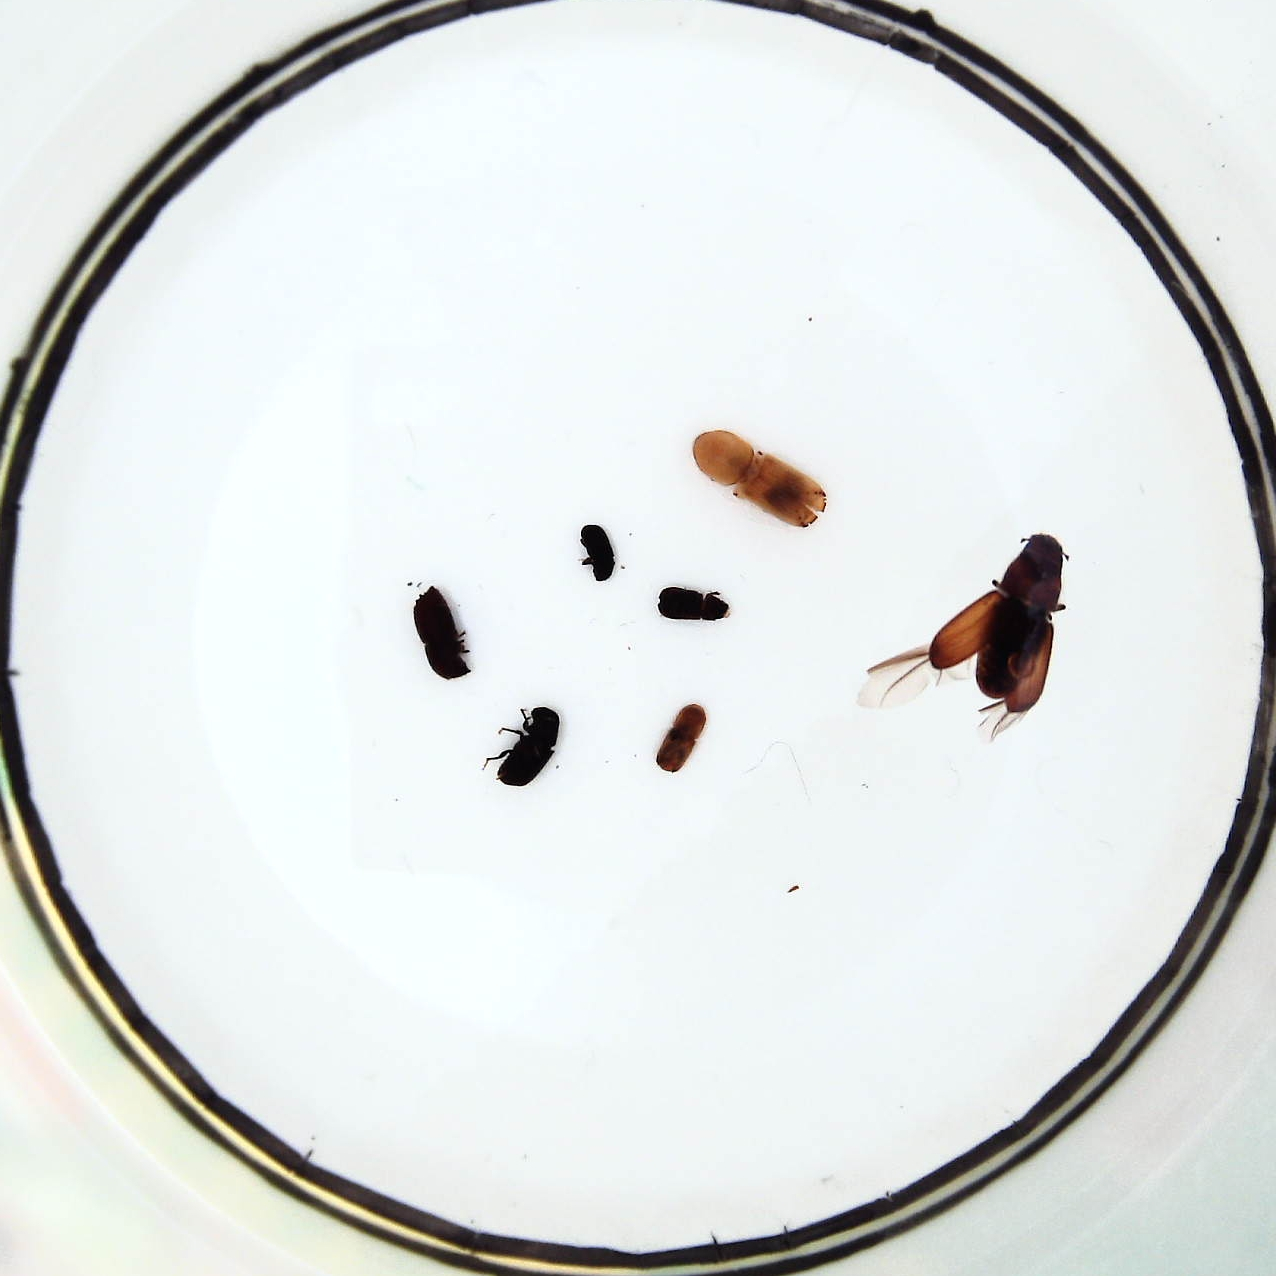Boerner: (692, 424, 828, 529)
Leconte: (909, 536, 1057, 716)
Linnaeus: (416, 585, 465, 682)
acuminatus: (646, 707, 710, 772)
armandi: (492, 703, 550, 785)
coleoptera: (575, 519, 624, 585), (665, 582, 719, 626)
